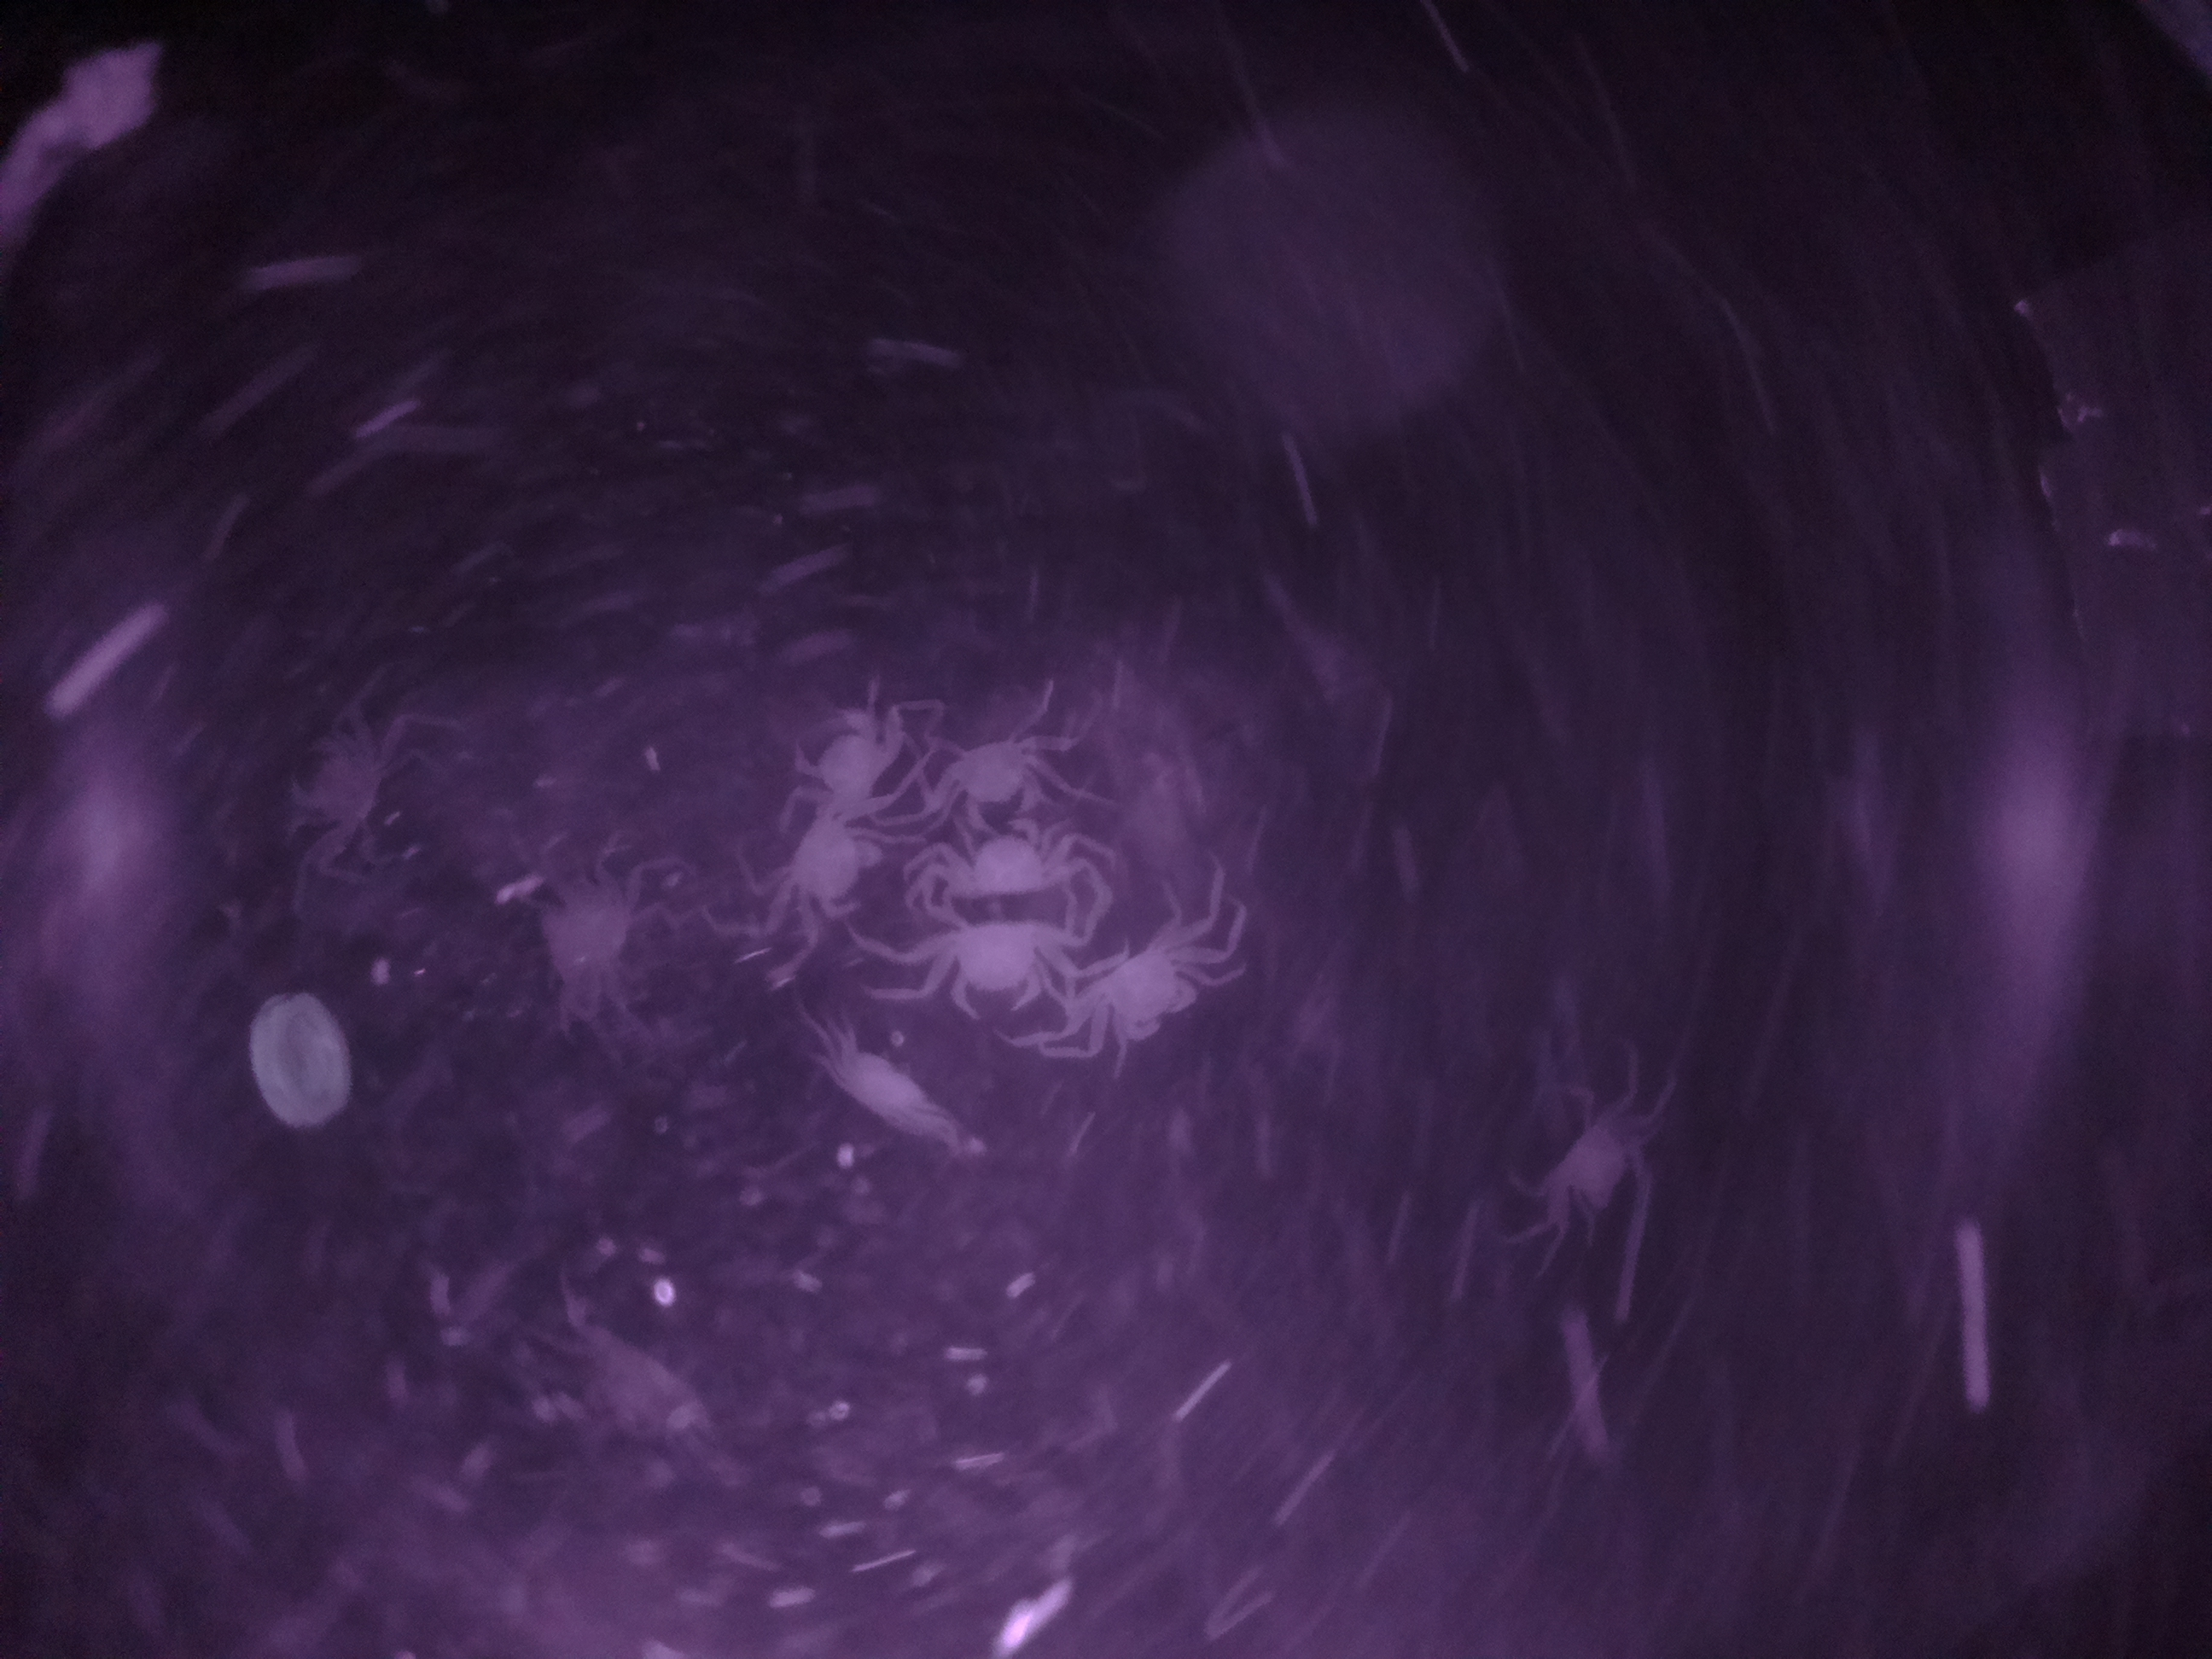Crab: (1533, 1079, 1665, 1260), (1073, 932, 1223, 1066), (928, 706, 1078, 836), (935, 906, 1061, 1033), (773, 795, 892, 929)
